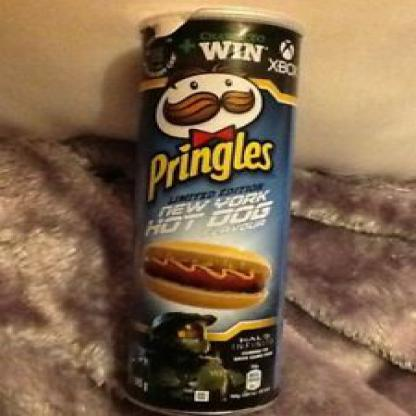potatochip: (120, 7, 302, 415)
